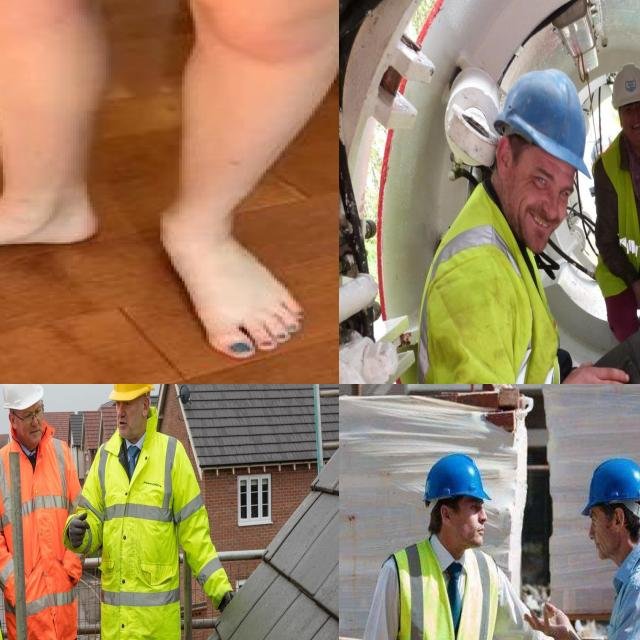Barefoots: (0, 213, 95, 265)
No_Ear-Protection: (493, 130, 514, 182)
No_Glasses: (526, 154, 573, 210)
face_nomask: (508, 147, 567, 250), (588, 508, 627, 566), (456, 498, 489, 553), (19, 395, 46, 454), (113, 402, 147, 443), (624, 99, 640, 134)
glasses: (18, 404, 46, 426)
hand_glove: (69, 514, 95, 562)
hand_noglove: (521, 604, 581, 640), (571, 356, 638, 384)
head_helmet: (496, 64, 598, 180), (412, 446, 496, 511), (574, 453, 640, 503), (606, 63, 640, 108), (1, 384, 43, 412), (111, 384, 158, 403)
person: (422, 58, 597, 384), (82, 384, 241, 640), (0, 384, 113, 640), (371, 450, 498, 640), (562, 455, 640, 640), (593, 64, 640, 325)
vest: (426, 220, 563, 384), (94, 427, 184, 640), (0, 438, 82, 640), (391, 535, 495, 640), (603, 127, 640, 284)
